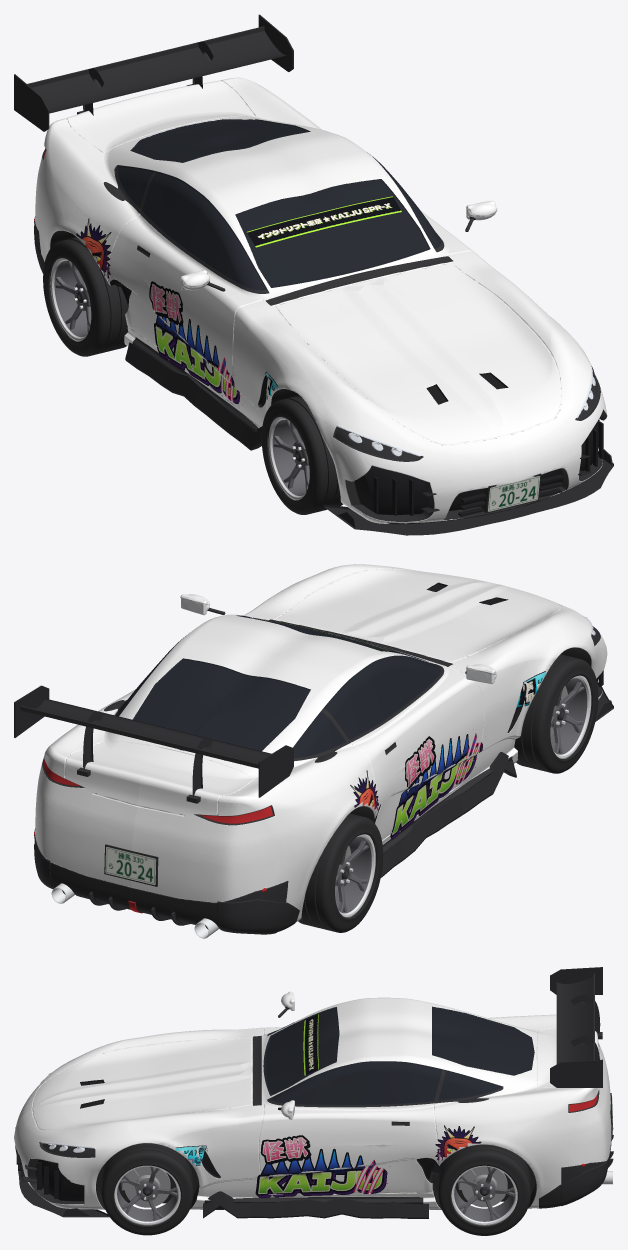
File: kaiju.fbx
3 renders of one model, top to bottom at view 1: azimuth 30°, elevation 25°; view 2: azimuth 150°, elevation 25°; view 3: azimuth 270°, elevation 25°, orthographic. The views are drawn at different scales.
Parts seen in each view (by area): view 1: Body, Wheel_RR, Wheel_FR; view 2: Body, Wheel_FR, Wheel_RR; view 3: Body, Wheel_RL, Wheel_FL.
Part boxes in pixels (x1,y1,x2,y2): Body: [14, 14, 613, 535]; Wheel_RR: [43, 237, 128, 356]; Wheel_FR: [261, 395, 343, 514]; Body: [14, 564, 613, 938]; Wheel_FR: [514, 654, 598, 773]; Wheel_RR: [298, 813, 383, 932]; Body: [14, 967, 613, 1218]; Wheel_RL: [438, 1144, 530, 1235]; Wheel_FL: [102, 1143, 193, 1235].
Size of the model in its own units: 2.06 by 1.37 by 4.4.
14 materials, 2 textured.
